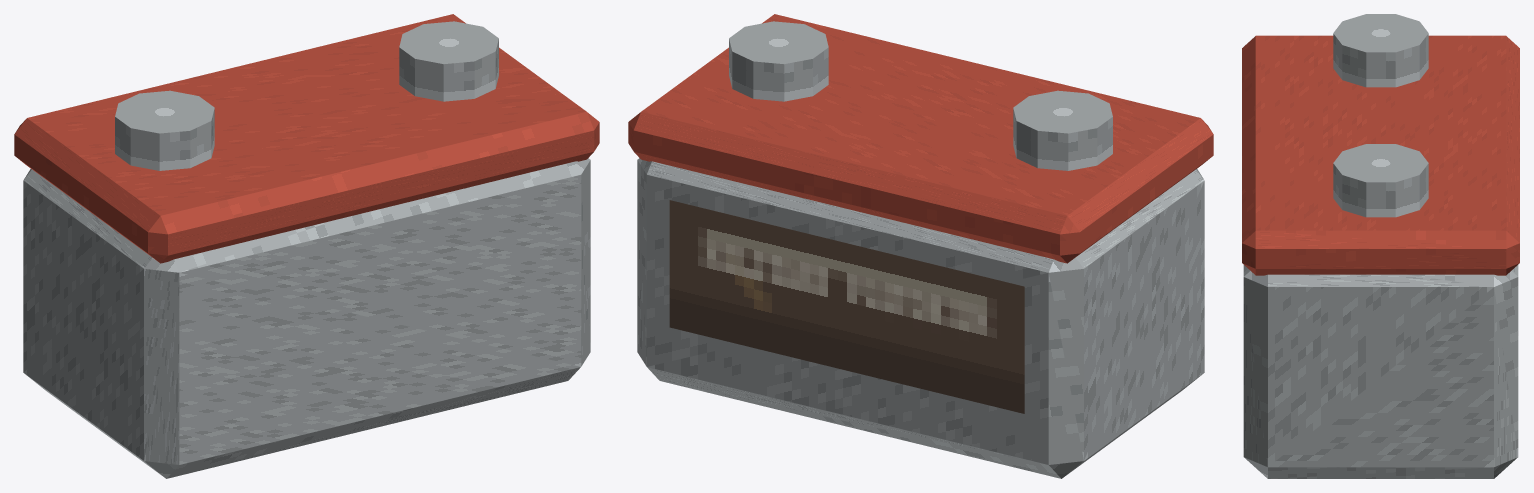
The model's file is huge_atomic_battery_cell.glb.
3 views of the same model, side by side, from view 1: azimuth 30°, elevation 25°; view 2: azimuth 150°, elevation 25°; view 3: azimuth 270°, elevation 25° (orthographic). The views are drawn at different scales.
Parts seen in each view (by area): view 1: block_rectangular power cell, block_terminal cover, block_terminal (×2); view 2: block_rectangular power cell, block_terminal cover, block_power marking, block_terminal (×2); view 3: block_rectangular power cell, block_terminal cover, block_terminal (×2).
Boxes of the visible parts, box(x1,y1,x2,y2) form: block_rectangular power cell: box(23, 158, 590, 478); block_terminal cover: box(14, 14, 599, 263); block_terminal (×2): box(115, 21, 498, 170); block_rectangular power cell: box(637, 158, 1204, 478); block_terminal cover: box(628, 14, 1213, 263); block_power marking: box(669, 200, 1024, 413); block_terminal (×2): box(729, 21, 1112, 170); block_rectangular power cell: box(1243, 265, 1518, 478); block_terminal cover: box(1242, 35, 1519, 275); block_terminal (×2): box(1333, 14, 1428, 217).
Bounding box in the file's own units: 0.7003 × 0.4568 × 0.3982.
Materials: 1 (1 with a texture image).
